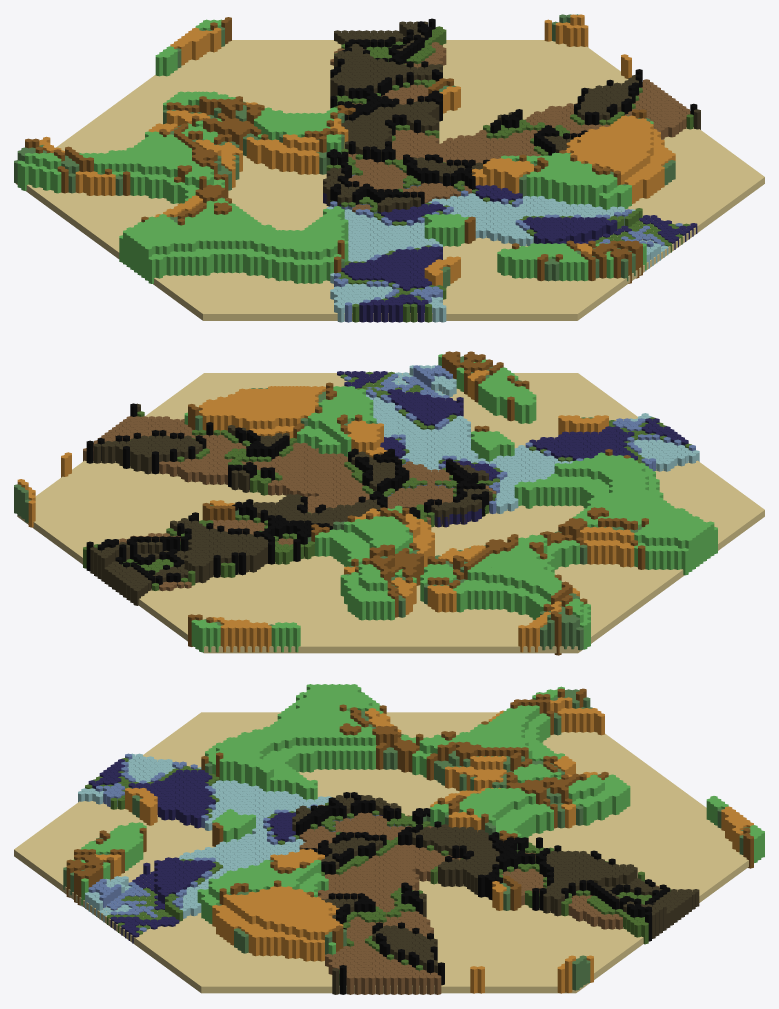
File: 0027_tile_1022110.fbx
The picture shows the model from 3 angles, top to bottom: view 1: azimuth 30°, elevation 25°; view 2: azimuth 150°, elevation 25°; view 3: azimuth 270°, elevation 25°; orthographic projection.
Visible parts, largest first — view 1: Plane; view 2: Plane; view 3: Plane.
Part boxes in pixels (box(x1,y1,x2,y2)): Plane: box(14, 14, 764, 322); Plane: box(14, 351, 764, 655); Plane: box(14, 684, 764, 994).
Bounding box in the file's own units: 1008 × 65.23 × 1152.
